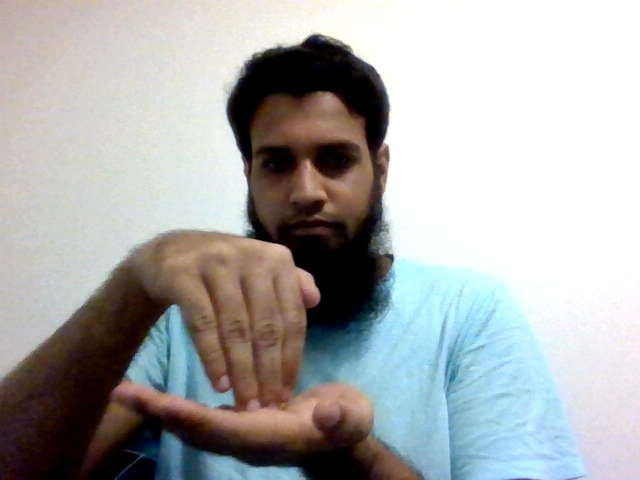again: (107, 227, 377, 475)
